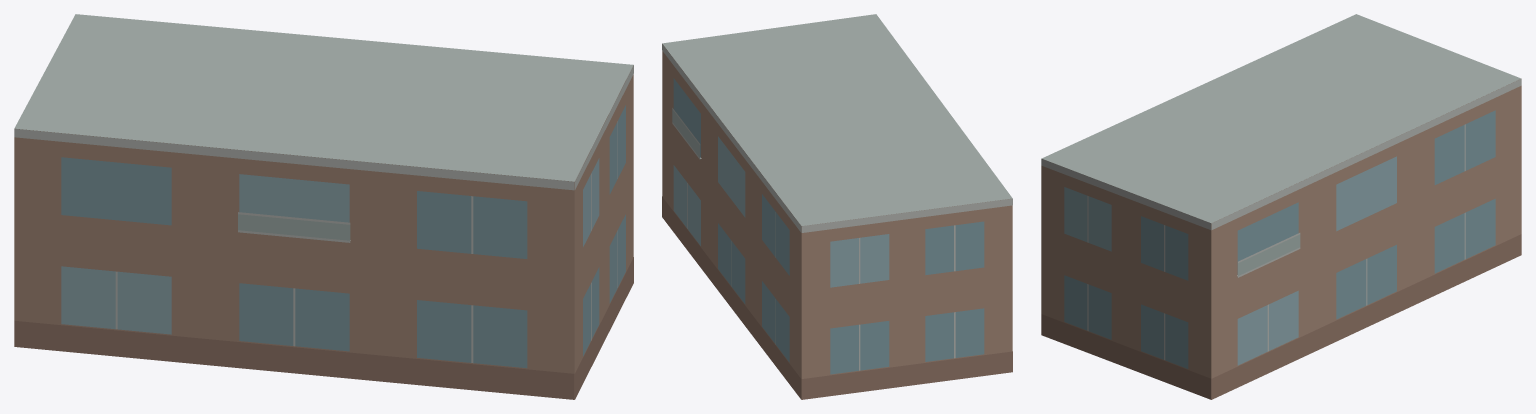
File: survey-upis-32712074.glb
3 renders of one model, left to right at view 1: azimuth 30°, elevation 25°; view 2: azimuth 150°, elevation 25°; view 3: azimuth 270°, elevation 25°, orthographic. The views are drawn at different scales.
Parts seen in each view (by area): view 1: survey-upis-32712074.tmp; view 2: survey-upis-32712074.tmp; view 3: survey-upis-32712074.tmp.
Boxes of the visible parts, left/top/right/bottom form: survey-upis-32712074.tmp: left=14, top=14, right=633, bottom=399; survey-upis-32712074.tmp: left=662, top=14, right=1012, bottom=399; survey-upis-32712074.tmp: left=1041, top=14, right=1521, bottom=399.
Size of the model in its own units: 15.51 by 6.1 by 15.04.
